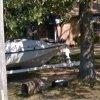Boat: (4, 31, 70, 76)
